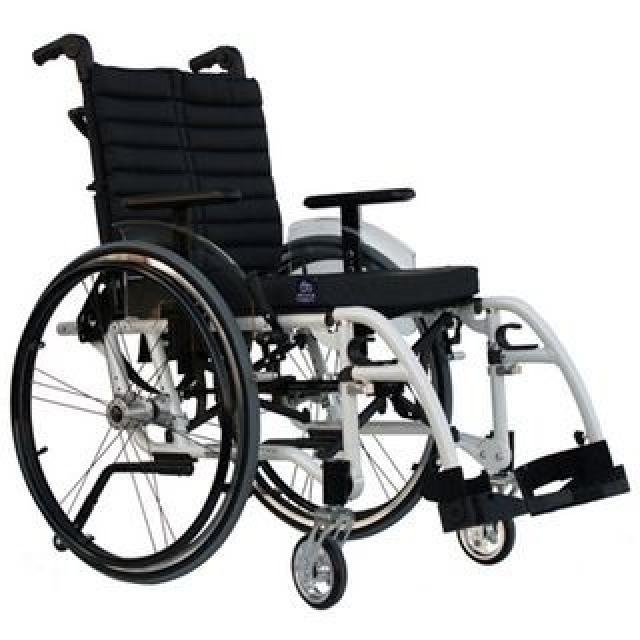wheelchair: (6, 27, 640, 625)
